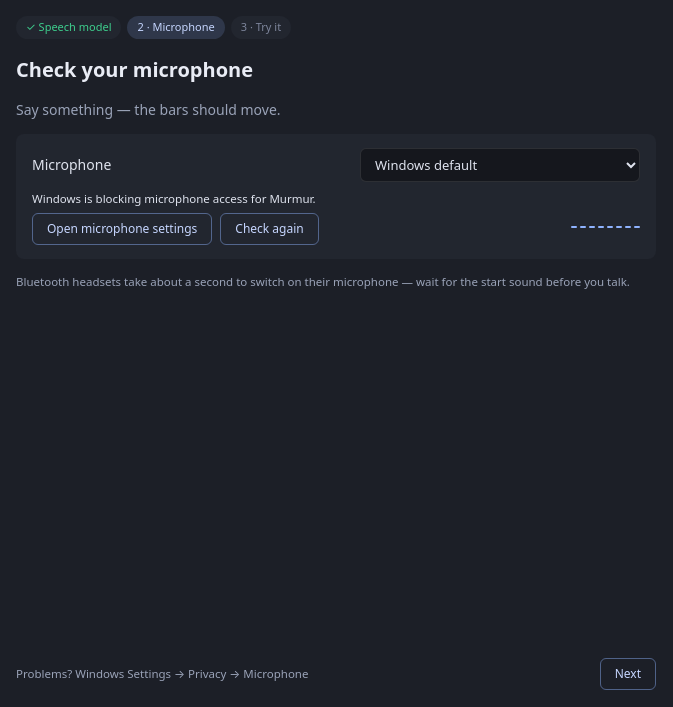
Test: SetupPage › step 2, the microphone › tests again when the window gets focus back from Windows' microphone settings
Click the button "Open microphone settings": (122, 229) 32,213 -> 212,245
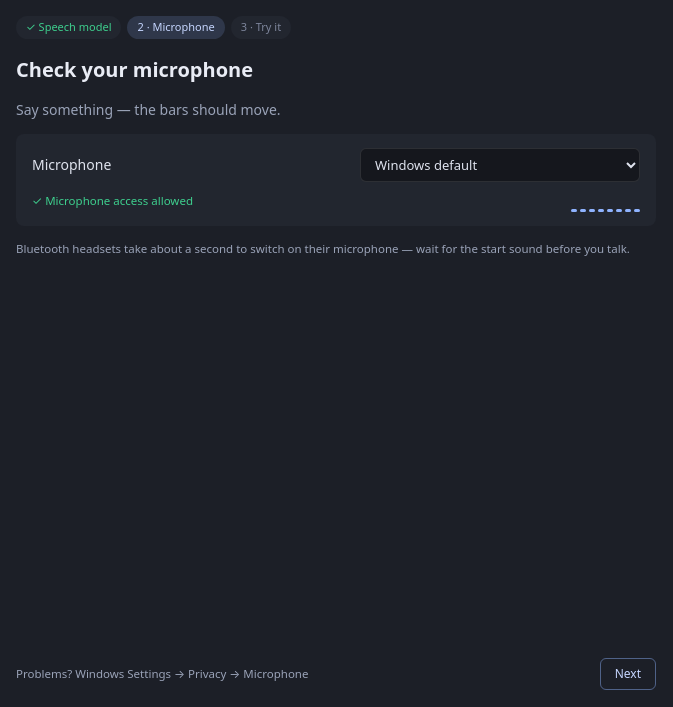
Check: the text "✓ Microphone access allowed" is shown, box 32,192 -> 193,209
Check: the text "Windows is blocking microphone access for Murmur." is gone
